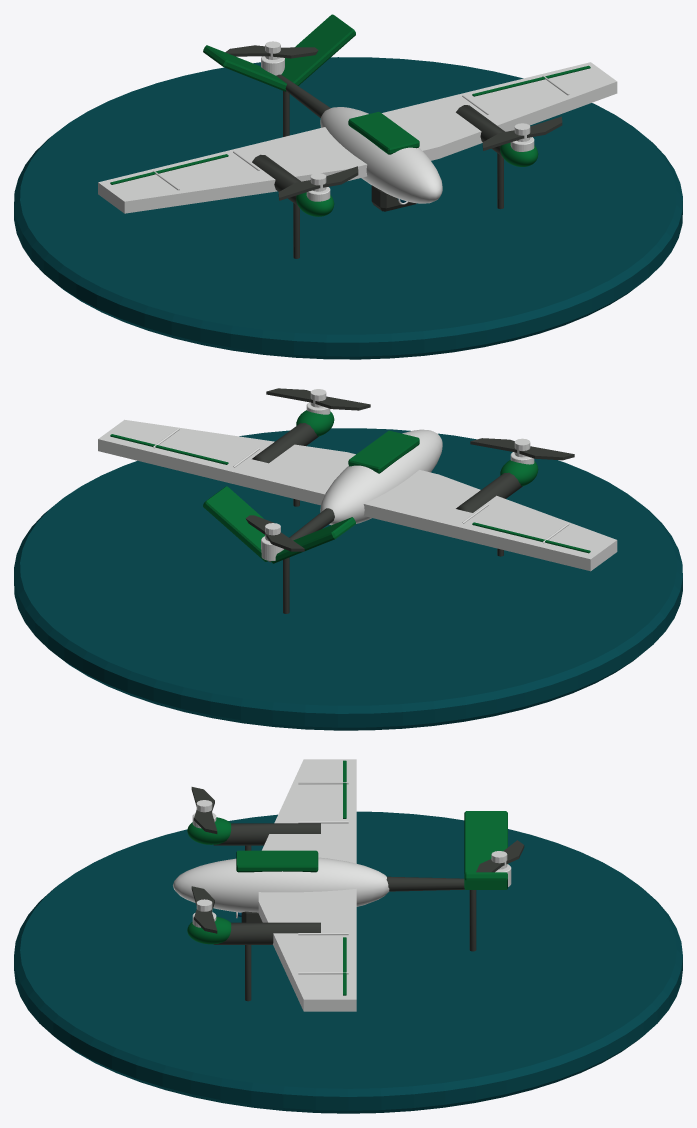
File: quantum-trinity-pro.glb
The picture shows the model from 3 angles, top to bottom: view 1: azimuth 30°, elevation 25°; view 2: azimuth 150°, elevation 25°; view 3: azimuth 270°, elevation 25°; orthographic projection.
Visible parts, largest first — view 1: pedestal, body; view 2: pedestal, body; view 3: pedestal, body.
Boxes of the visible parts, box(x1,y1,x2,y2) form: pedestal: box(14, 57, 682, 359); body: box(98, 14, 617, 258); pedestal: box(14, 428, 682, 730); body: box(98, 388, 617, 613); pedestal: box(14, 811, 682, 1113); body: box(173, 759, 524, 1011).
Bounding box in the file's own units: 4.4 × 0.9665 × 4.4.
